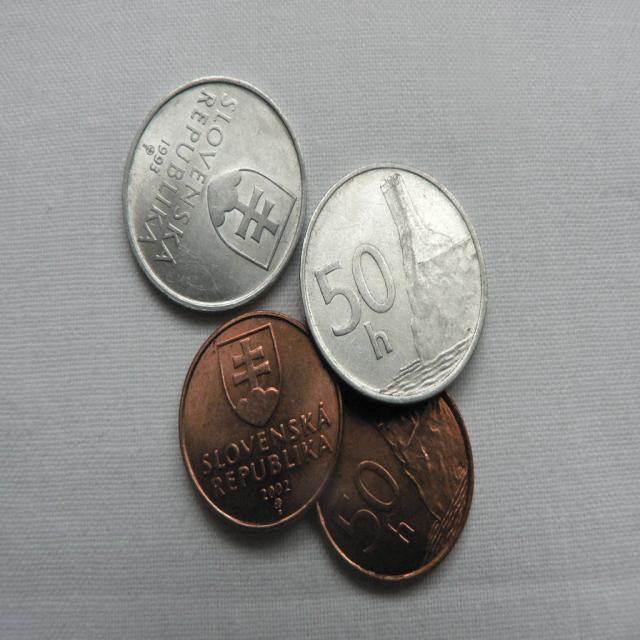Coin: (297, 162, 482, 404), (123, 74, 307, 312), (177, 307, 344, 533), (307, 391, 477, 582)
